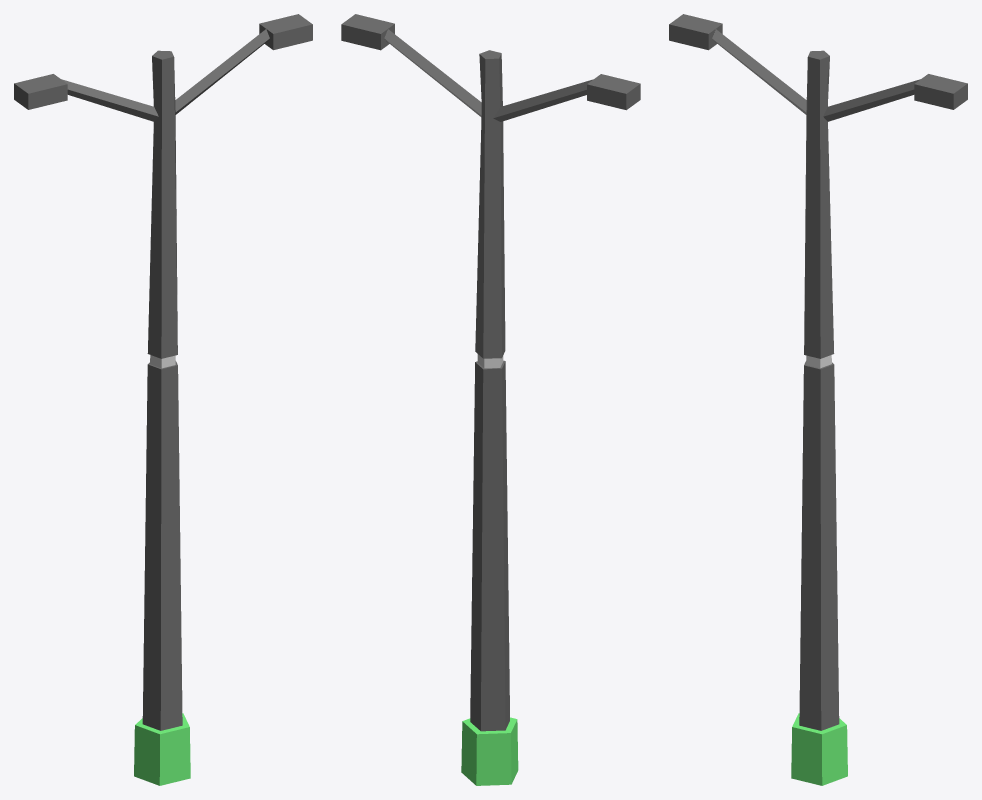
File: model-scenario-static-level0-micelanious-lightPole.fbx
The picture shows the model from 3 angles, left to right: view 1: azimuth 30°, elevation 25°; view 2: azimuth 150°, elevation 25°; view 3: azimuth 330°, elevation 25°; orthographic projection.
Visible parts, largest first — view 1: light_pole_mesh; view 2: light_pole_mesh; view 3: light_pole_mesh.
Boxes of the visible parts, <box> form: light_pole_mesh: <box>14,14,312,785</box>; light_pole_mesh: <box>341,14,640,785</box>; light_pole_mesh: <box>669,14,967,785</box>.
Bounding box in the file's own units: 0.9312 × 5.8 × 14.02.
